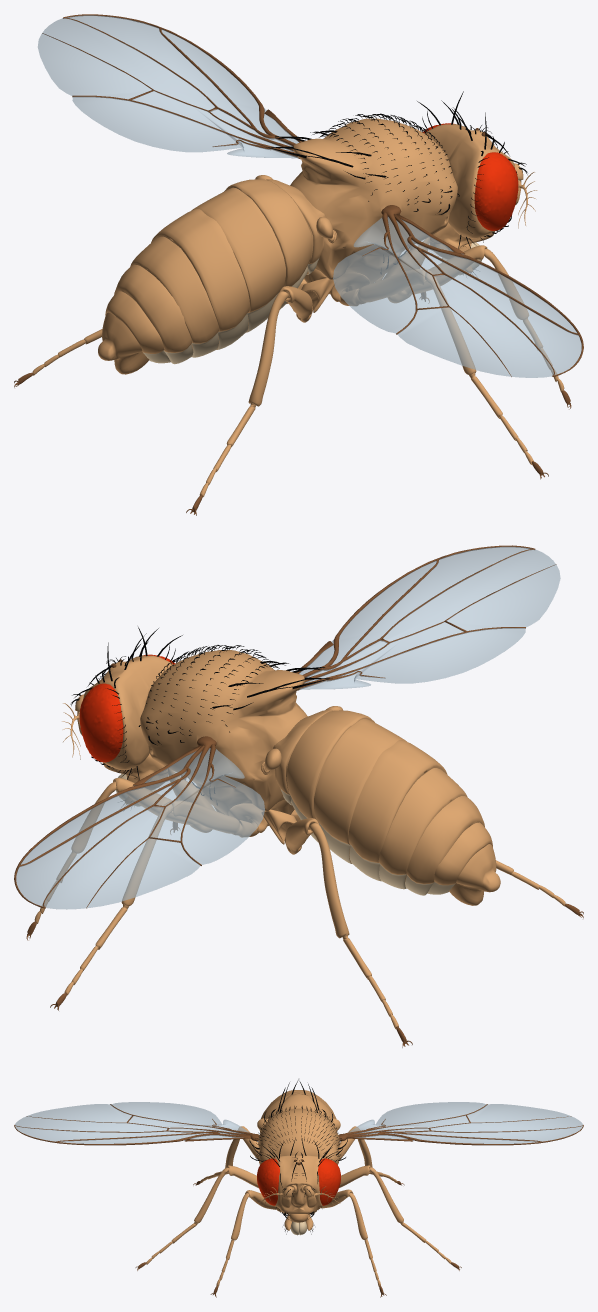
File: fly.glb
The picture shows the model from 3 angles, top to bottom: view 1: azimuth 30°, elevation 25°; view 2: azimuth 150°, elevation 25°; view 3: azimuth 270°, elevation 25°; orthographic projection. The views are drawn at different scales.
Parts seen in each view (by area): view 1: wing_right_membrane, wing_left_membrane, thorax.001, abdomen_3.001, abdomen_4.001, abdomen_5.001, head.001, abdomen_2.001, wing_right_brown, wing_left_brown, abdomen_6.001, head_red (+11 smaller); view 2: wing_left_membrane, wing_right_membrane, thorax.001, abdomen_3.001, abdomen_4.001, abdomen_5.001, head.001, abdomen_2.001, wing_left_brown, wing_right_brown, abdomen_6.001, head_red (+12 smaller); view 3: wing_left_membrane, wing_right_membrane, thorax.001, head.001, wing_right_brown, wing_left_brown, head_red, thorax_black, head_black, abdomen_2.001, tibia_T2_right.001, tibia_T2_left.001 (+6 smaller).
Boxes of the visible parts, left/top/right/bottom form: wing_right_membrane: left=333, top=217, right=581, bottom=377; wing_left_membrane: left=38, top=15, right=299, bottom=158; thorax.001: left=290, top=118, right=457, bottom=284; abdomen_3.001: left=191, top=187, right=285, bottom=332; abdomen_4.001: left=151, top=209, right=249, bottom=349; abdomen_5.001: left=130, top=236, right=218, bottom=349; head.001: left=424, top=124, right=514, bottom=238; abdomen_2.001: left=224, top=179, right=311, bottom=286; wing_right_brown: left=362, top=205, right=583, bottom=376; wing_left_brown: left=42, top=14, right=302, bottom=159; abdomen_6.001: left=114, top=264, right=191, bottom=352; head_red: left=422, top=123, right=518, bottom=230; wing_left_membrane: left=16, top=748, right=264, bottom=909; wing_right_membrane: left=299, top=546, right=560, bottom=689; thorax.001: left=140, top=650, right=307, bottom=815; abdomen_3.001: left=314, top=719, right=406, bottom=863; abdomen_4.001: left=348, top=740, right=447, bottom=862; abdomen_5.001: left=378, top=768, right=467, bottom=882; head.001: left=83, top=655, right=172, bottom=770; abdomen_2.001: left=286, top=710, right=374, bottom=822; wing_left_brown: left=14, top=736, right=235, bottom=908; wing_right_brown: left=295, top=545, right=556, bottom=690; abdomen_6.001: left=406, top=796, right=484, bottom=884; head_red: left=79, top=654, right=175, bottom=762; wing_left_membrane: left=348, top=1102, right=582, bottom=1143; wing_right_membrane: left=15, top=1102, right=249, bottom=1143; thorax.001: left=258, top=1093, right=339, bottom=1164; head.001: left=270, top=1155, right=327, bottom=1214; wing_right_brown: left=14, top=1104, right=259, bottom=1145; wing_left_brown: left=338, top=1104, right=583, bottom=1145; head_red: left=257, top=1158, right=340, bottom=1205; thorax_black: left=249, top=1079, right=347, bottom=1161; head_black: left=261, top=1138, right=335, bottom=1219; abdomen_2.001: left=259, top=1095, right=333, bottom=1132; tibia_T2_right.001: left=194, top=1167, right=228, bottom=1223; tibia_T2_left.001: left=369, top=1167, right=403, bottom=1223.
Size of the model in its own units: 0.00301 by 0.00184 by 0.00612.
